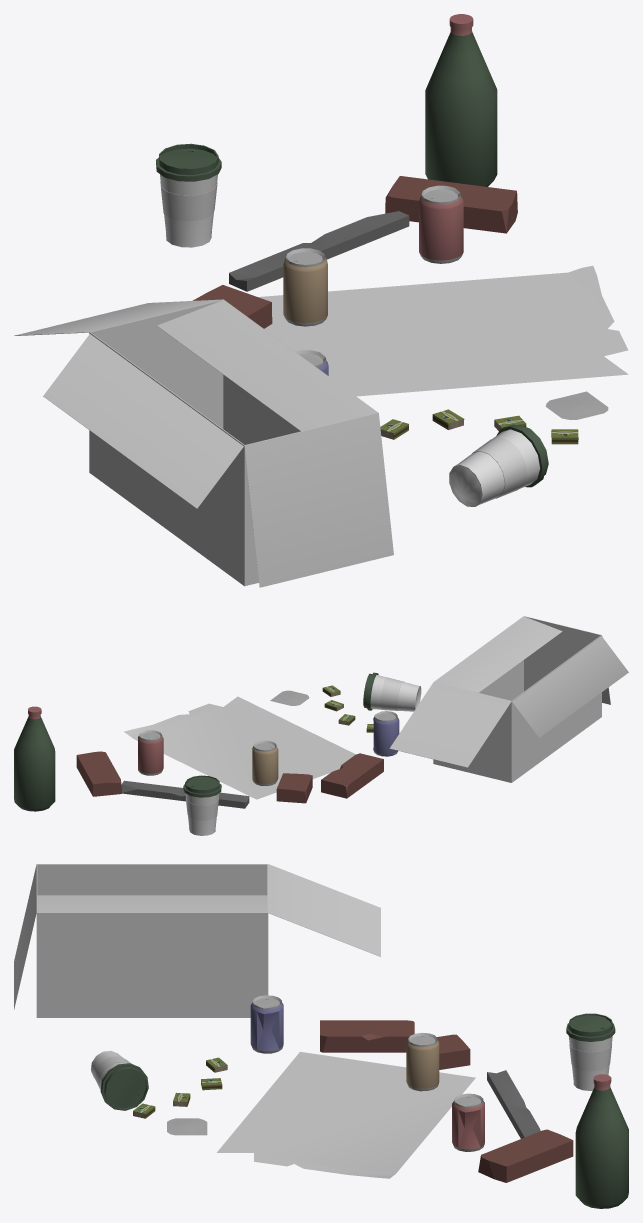
File: Trash.fbx
3 views of the same model, one above another, from view 1: azimuth 30°, elevation 25°; view 2: azimuth 150°, elevation 25°; view 3: azimuth 270°, elevation 25° (orthographic). The views are drawn at different scales.
Parts seen in each view (by area): view 1: Box, Newspaper, Coffee, Milk, Cans, Bricks, Bar, Matches, Else; view 2: Box, Newspaper, Bricks, Coffee, Milk, Cans, Bar, Matches, Else; view 3: Box, Newspaper, Bricks, Milk, Cans, Coffee, Bar, Matches, Else.
Part boxes in pixels (x1,y1,x2,y2): Box: (14,299,393,587); Newspaper: (258,265,628,396); Coffee: (156,143,548,506); Milk: (425,14,497,186); Cans: (283,185,463,375); Bricks: (192,176,517,328); Bar: (229,211,409,291); Matches: (380,409,578,444); Else: (545,391,608,419); Box: (389,616,628,782); Newspaper: (124,696,355,799); Bricks: (76,751,383,803); Coffee: (183,672,421,835); Milk: (14,706,55,811); Cans: (138,711,399,785); Bar: (121,780,249,808); Matches: (322,685,373,732); Else: (270,690,309,705); Box: (14,864,380,1017); Newspaper: (217,1051,475,1178); Bricks: (320,1020,573,1182); Milk: (575,1074,628,1208); Cans: (250,995,484,1151); Coffee: (91,1013,615,1110); Bar: (487,1070,540,1138); Matches: (133,1057,227,1118); Else: (167,1118,207,1135).
Size of the model in its own units: 1836 by 442 by 1944.
